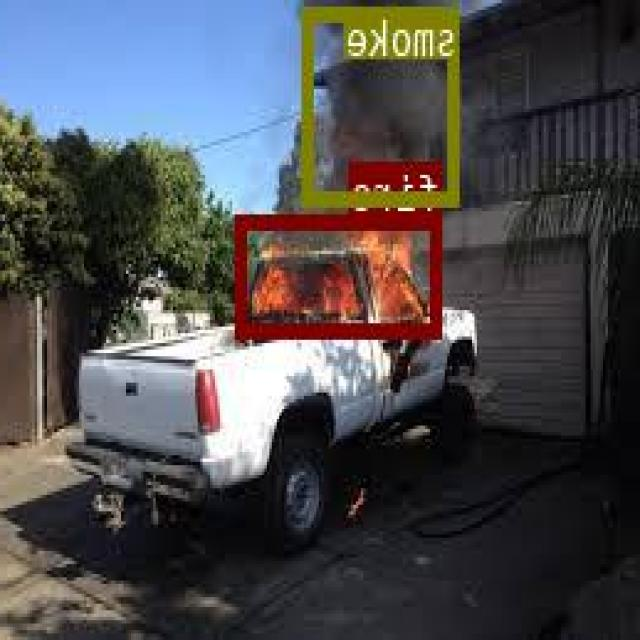fire: (239, 213, 443, 336)
smoke: (305, 6, 460, 204)
